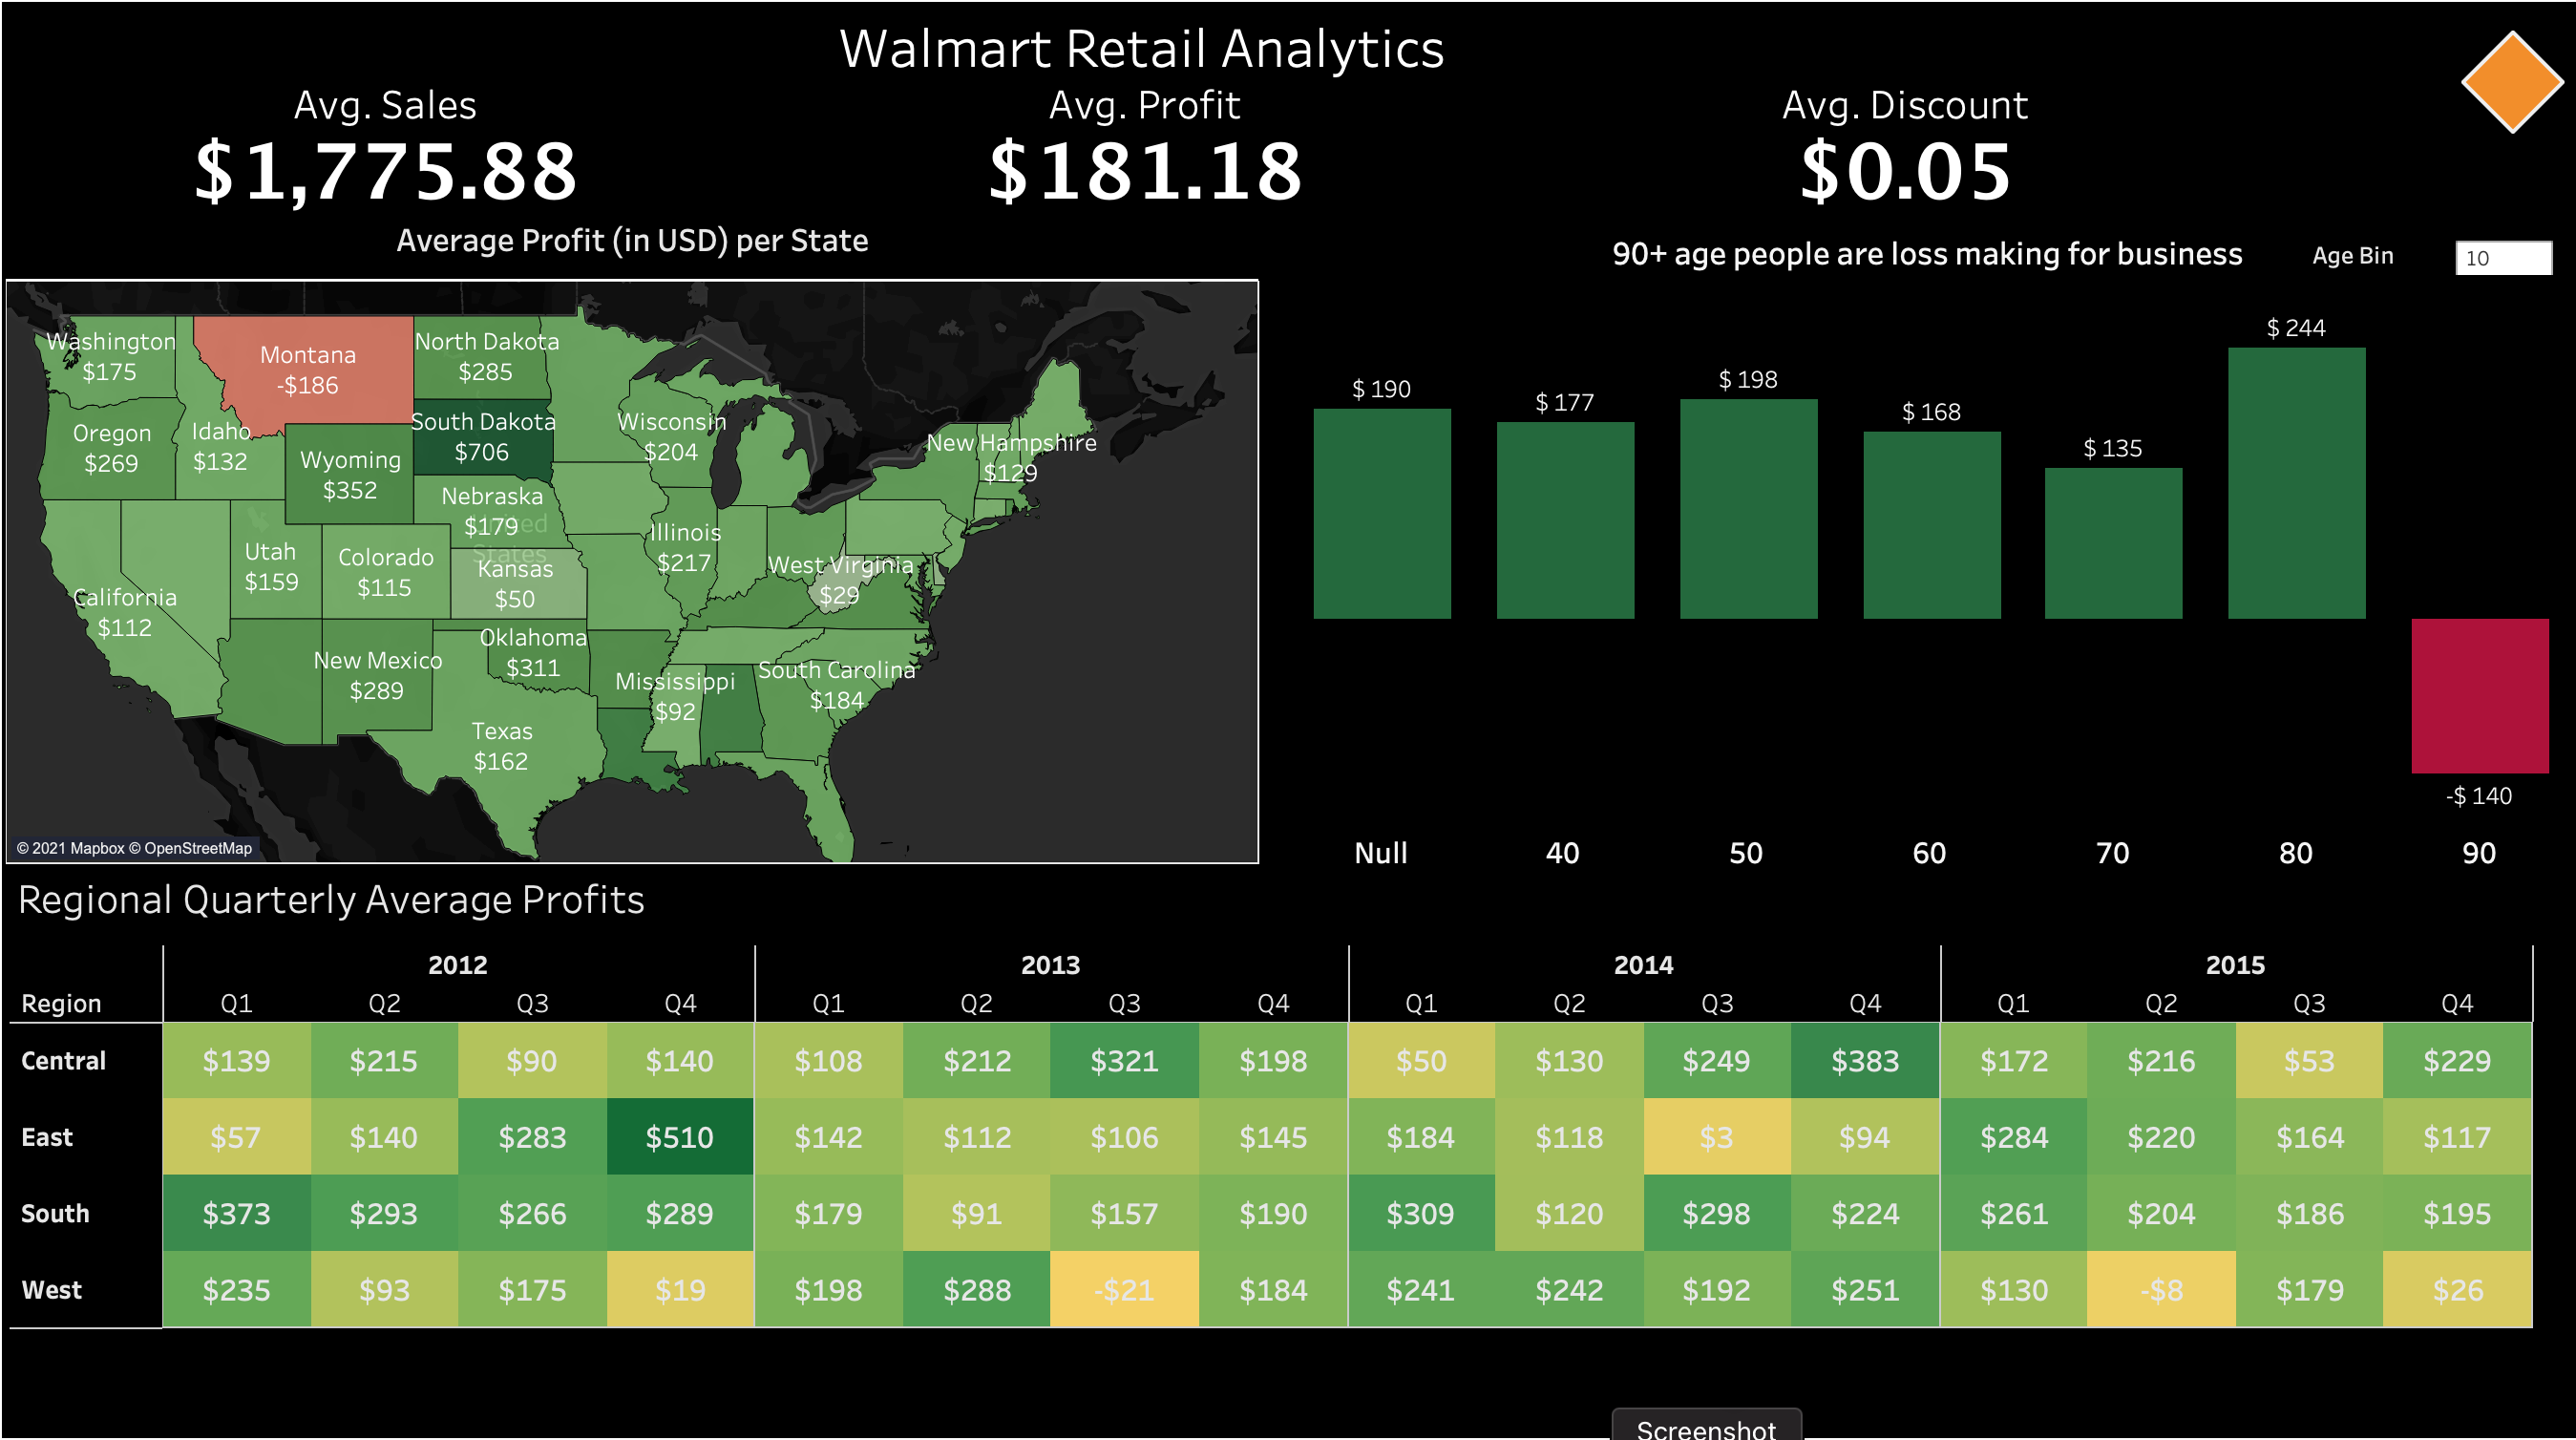

Layout of this report page (visuals, bound fields, positions):
{"tool":"tableau","page":{"name":"Dashboard 1","canvas":[1366,768],"ordinal":0},"visuals":[{"type":"text","box":[311,14,589,35]},{"type":"worksheet","title":"dataset info","mark":"Shape","box":[1288,18,69,64]},{"type":"worksheet","title":"Average Measures","mark":"Automatic","box":[10,49,1194,81]},{"type":"worksheet","title":"State vs Profit","mark":"Multipolygon","box":[10,117,657,343]},{"type":"worksheet","title":"Age vs Profit","mark":"Automatic","rows":["Profit"],"cols":["Customer Age (bin)"],"box":[683,124,671,341]},{"type":"parameter","param":"[Parameters].[Parameter 1]","box":[1218,130,129,21]},{"type":"worksheet","title":"regional profit","mark":"Square","rows":["Region"],"cols":["Order Date","Order Date"],"box":[12,459,1322,259]}]}

Visuals, with their boxes in screenshot pixels (x1, y1, x2, y2), scaled from the page's 1366x768 canvas onto the 2576x1440 screenshot:
text: [x1=586, y1=26, x2=1698, y2=92]
"dataset info" worksheet (Shape marks): [x1=2429, y1=33, x2=2559, y2=154]
"Average Measures" worksheet: [x1=19, y1=92, x2=2270, y2=244]
"State vs Profit" worksheet (Multipolygon marks): [x1=19, y1=220, x2=1257, y2=862]
"Age vs Profit" worksheet: [x1=1288, y1=232, x2=2553, y2=872]
parameter: [x1=2297, y1=244, x2=2540, y2=283]
"regional profit" worksheet (Square marks): [x1=23, y1=860, x2=2516, y2=1346]
